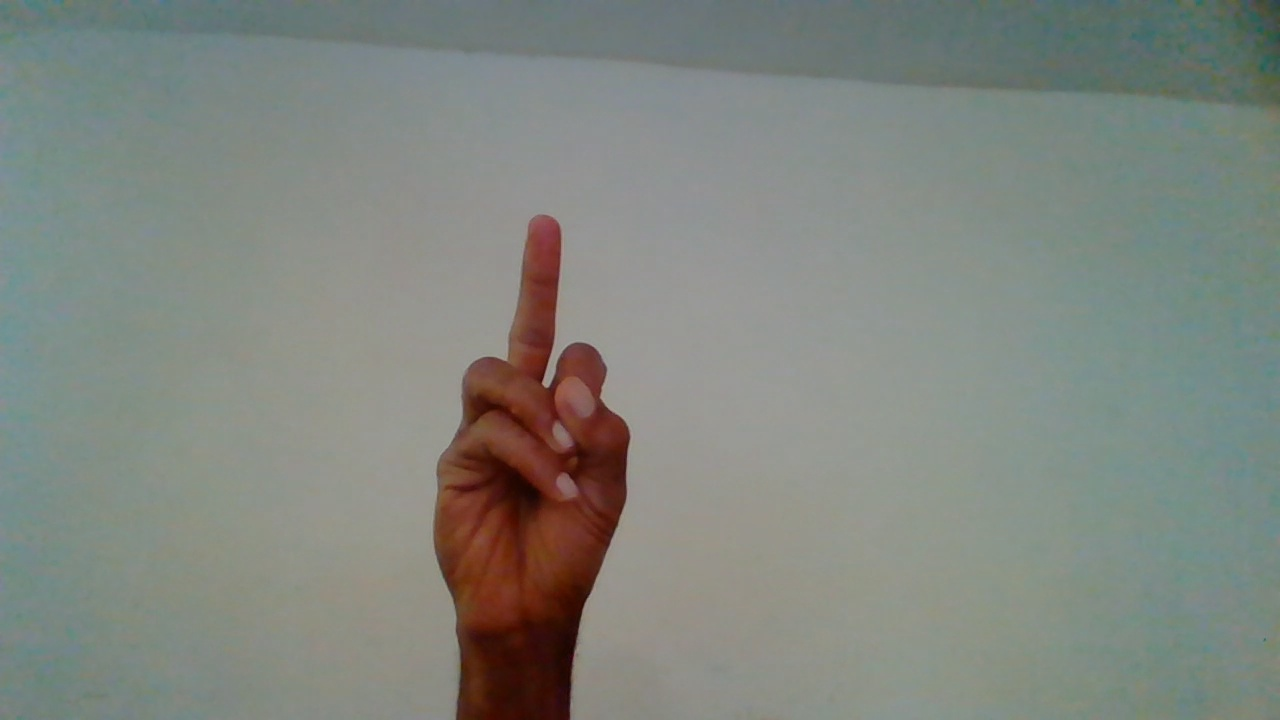he: (426, 216, 645, 704)
